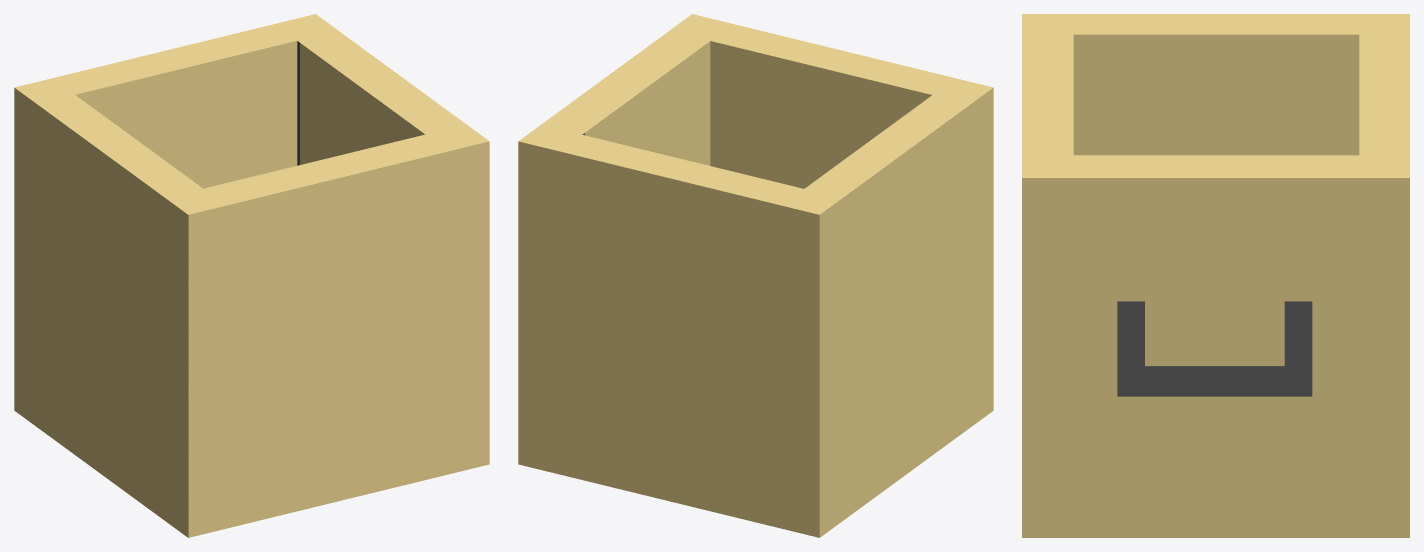
File: tansu-utigawa.fbx
The picture shows the model from 3 angles, left to right: view 1: azimuth 30°, elevation 25°; view 2: azimuth 150°, elevation 25°; view 3: azimuth 270°, elevation 25°; orthographic projection. The views are drawn at different scales.
Visible parts, largest first — view 1: 立方体; view 2: 立方体; view 3: 立方体.
Boxes of the visible parts, <box> form: 立方体: <box>14,14,489,537</box>; 立方体: <box>518,14,993,537</box>; 立方体: <box>1022,14,1409,537</box>.
Size of the model in its own units: 386 by 380 by 371.
